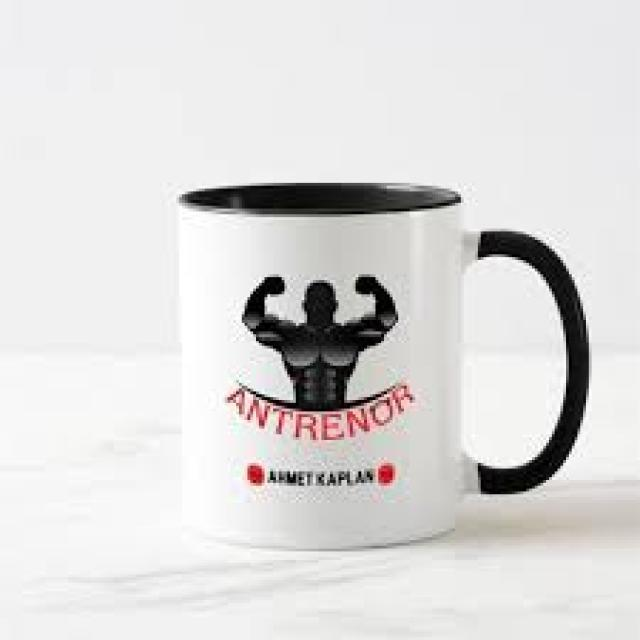taza: (175, 180, 593, 556)
